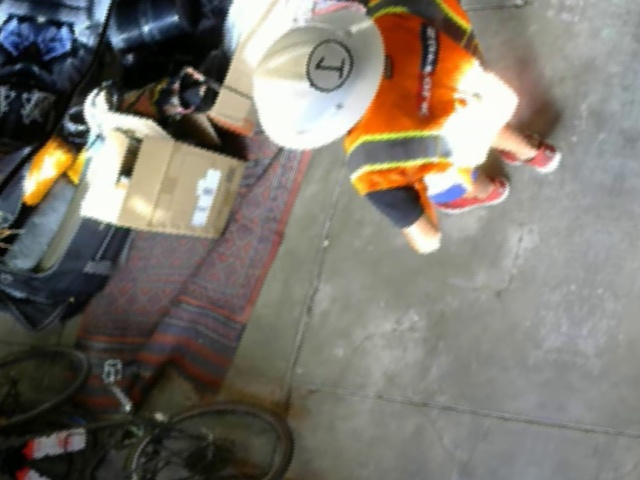one: (301, 36, 357, 91)
